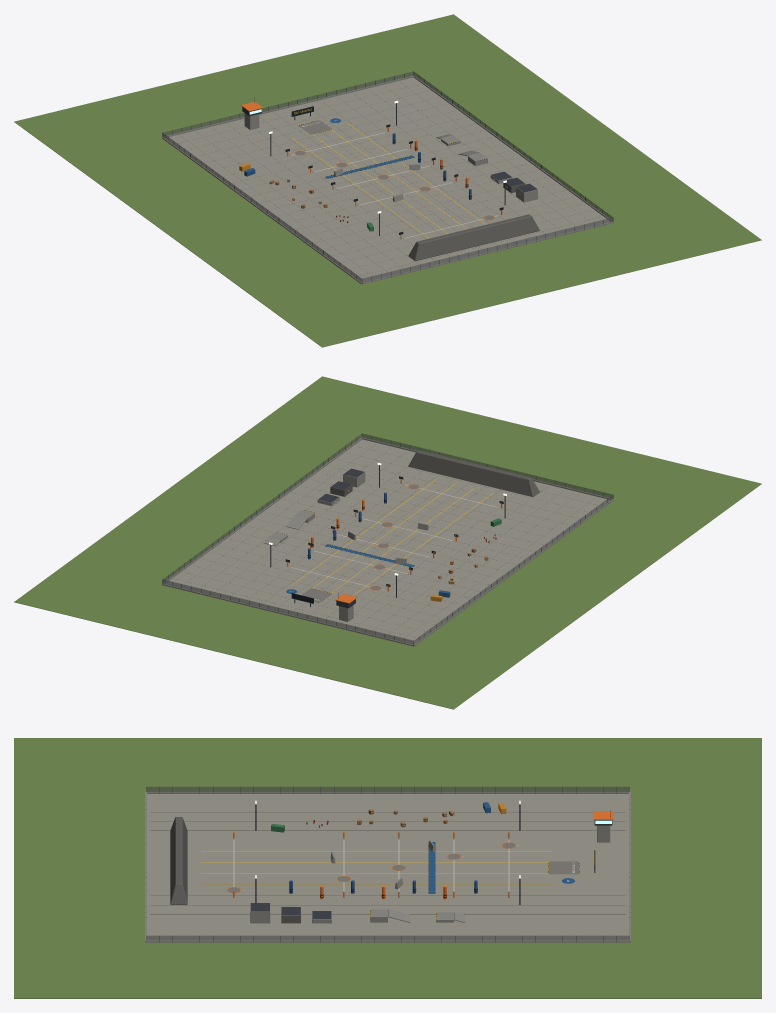
Rendered from testing_grounds.glb.
3 views of the same model, one above another, from view 1: azimuth 30°, elevation 25°; view 2: azimuth 150°, elevation 25°; view 3: azimuth 270°, elevation 25° (orthographic). The views are drawn at different scales.
Visible parts, largest first — view 1: grass_surround, ground, fence_panels, perimeter_barriers, backstop_berm, grid_lines; view 2: grass_surround, ground, fence_panels, backstop_berm, perimeter_barriers, grid_lines; view 3: grass_surround, ground, fence_panels, perimeter_barriers, grid_lines, backstop_berm.
Part boxes in pixels (x1=…): grass_surround: x1=14, y1=14, x2=761, y2=347; ground: x1=165, y1=77, x2=610, y2=281; fence_panels: x1=162, y1=71, x2=613, y2=282; perimeter_barriers: x1=162, y1=75, x2=613, y2=284; backstop_berm: x1=408, y1=214, x2=539, y2=261; grid_lines: x1=178, y1=82, x2=599, y2=275; grass_surround: x1=14, y1=376, x2=761, y2=709; ground: x1=165, y1=439, x2=610, y2=643; fence_panels: x1=162, y1=433, x2=613, y2=644; backstop_berm: x1=408, y1=450, x2=539, y2=496; perimeter_barriers: x1=162, y1=437, x2=613, y2=646; grid_lines: x1=176, y1=444, x2=597, y2=637; grass_surround: x1=14, y1=738, x2=761, y2=998; ground: x1=147, y1=794, x2=628, y2=940; fence_panels: x1=146, y1=786, x2=629, y2=940; perimeter_barriers: x1=145, y1=791, x2=630, y2=942; grid_lines: x1=150, y1=812, x2=625, y2=914; backstop_berm: x1=170, y1=817, x2=187, y2=904.
Size of the model in its own units: 280 by 16.8 by 340.
